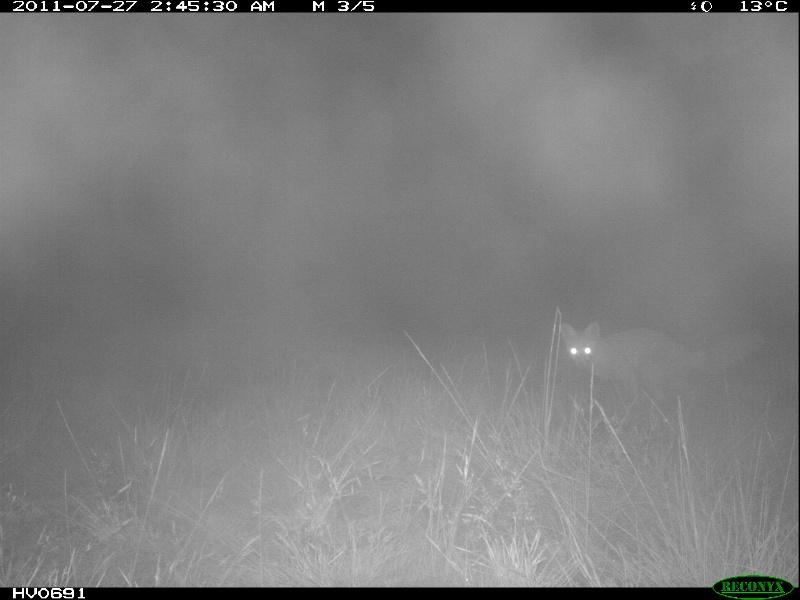fox: (555, 314, 747, 428)
